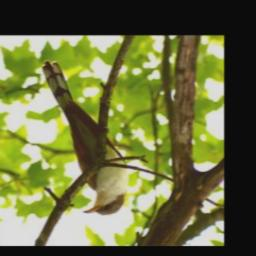Cuckoo: (40, 59, 129, 216)
